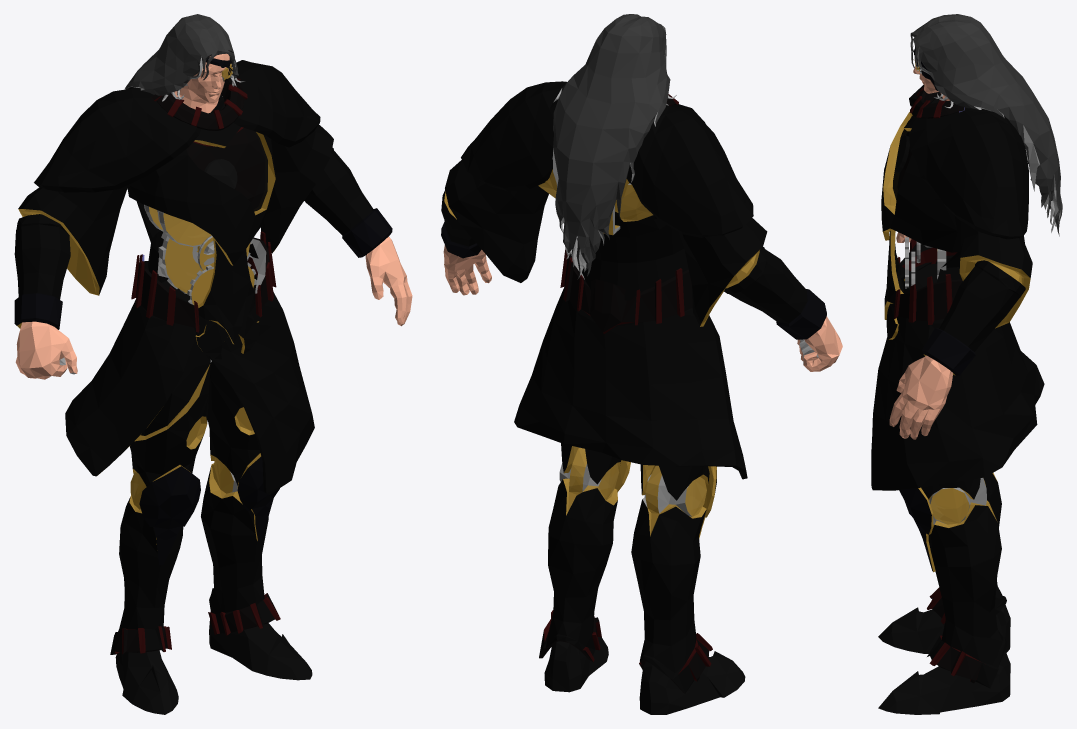
The model's file is ChronosModel.FBX.
3 renders of one model, left to right at view 1: azimuth 30°, elevation 25°; view 2: azimuth 150°, elevation 25°; view 3: azimuth 270°, elevation 25°, orthographic. The views are drawn at different scales.
Parts seen in each view (by area): view 1: Chronos; view 2: Chronos; view 3: Chronos.
Part boxes in pixels (box(x1,y1,x2,y2)): Chronos: box(14, 14, 412, 714); Chronos: box(441, 14, 842, 714); Chronos: box(871, 14, 1062, 714).
Size of the model in its own units: 15.64 by 25.18 by 6.68.
